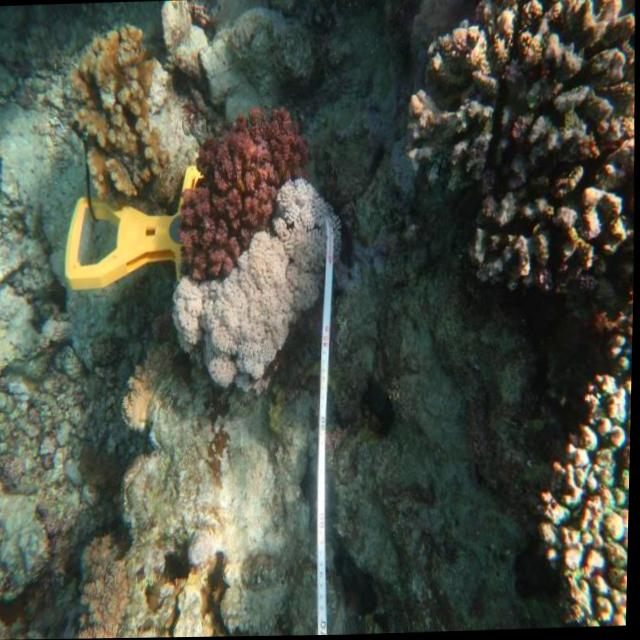Bleached Coral: (173, 245, 337, 396), (274, 180, 346, 263)
Healthy Coral: (415, 0, 639, 257), (61, 22, 181, 205), (178, 106, 293, 245)
